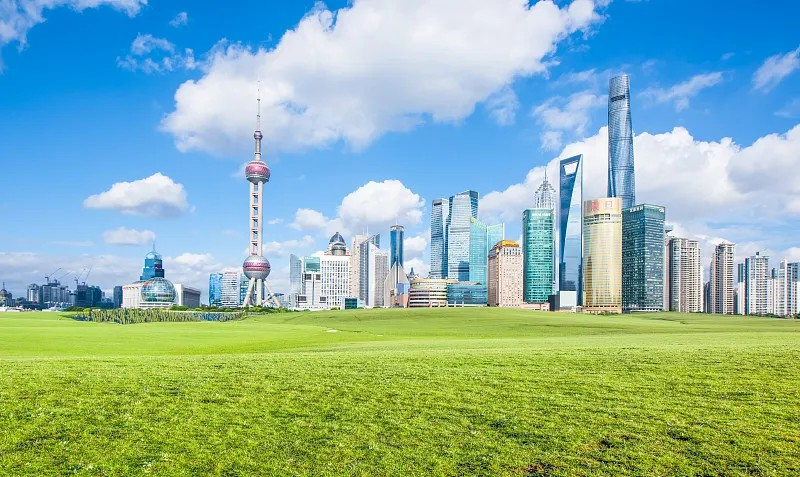Oriental: (243, 75, 280, 308)
